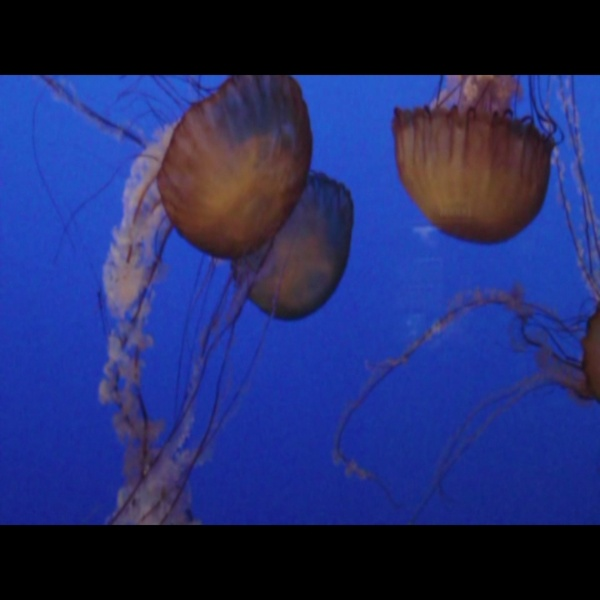Jellyfish: (101, 170, 357, 538), (333, 284, 599, 520), (390, 72, 599, 301)
